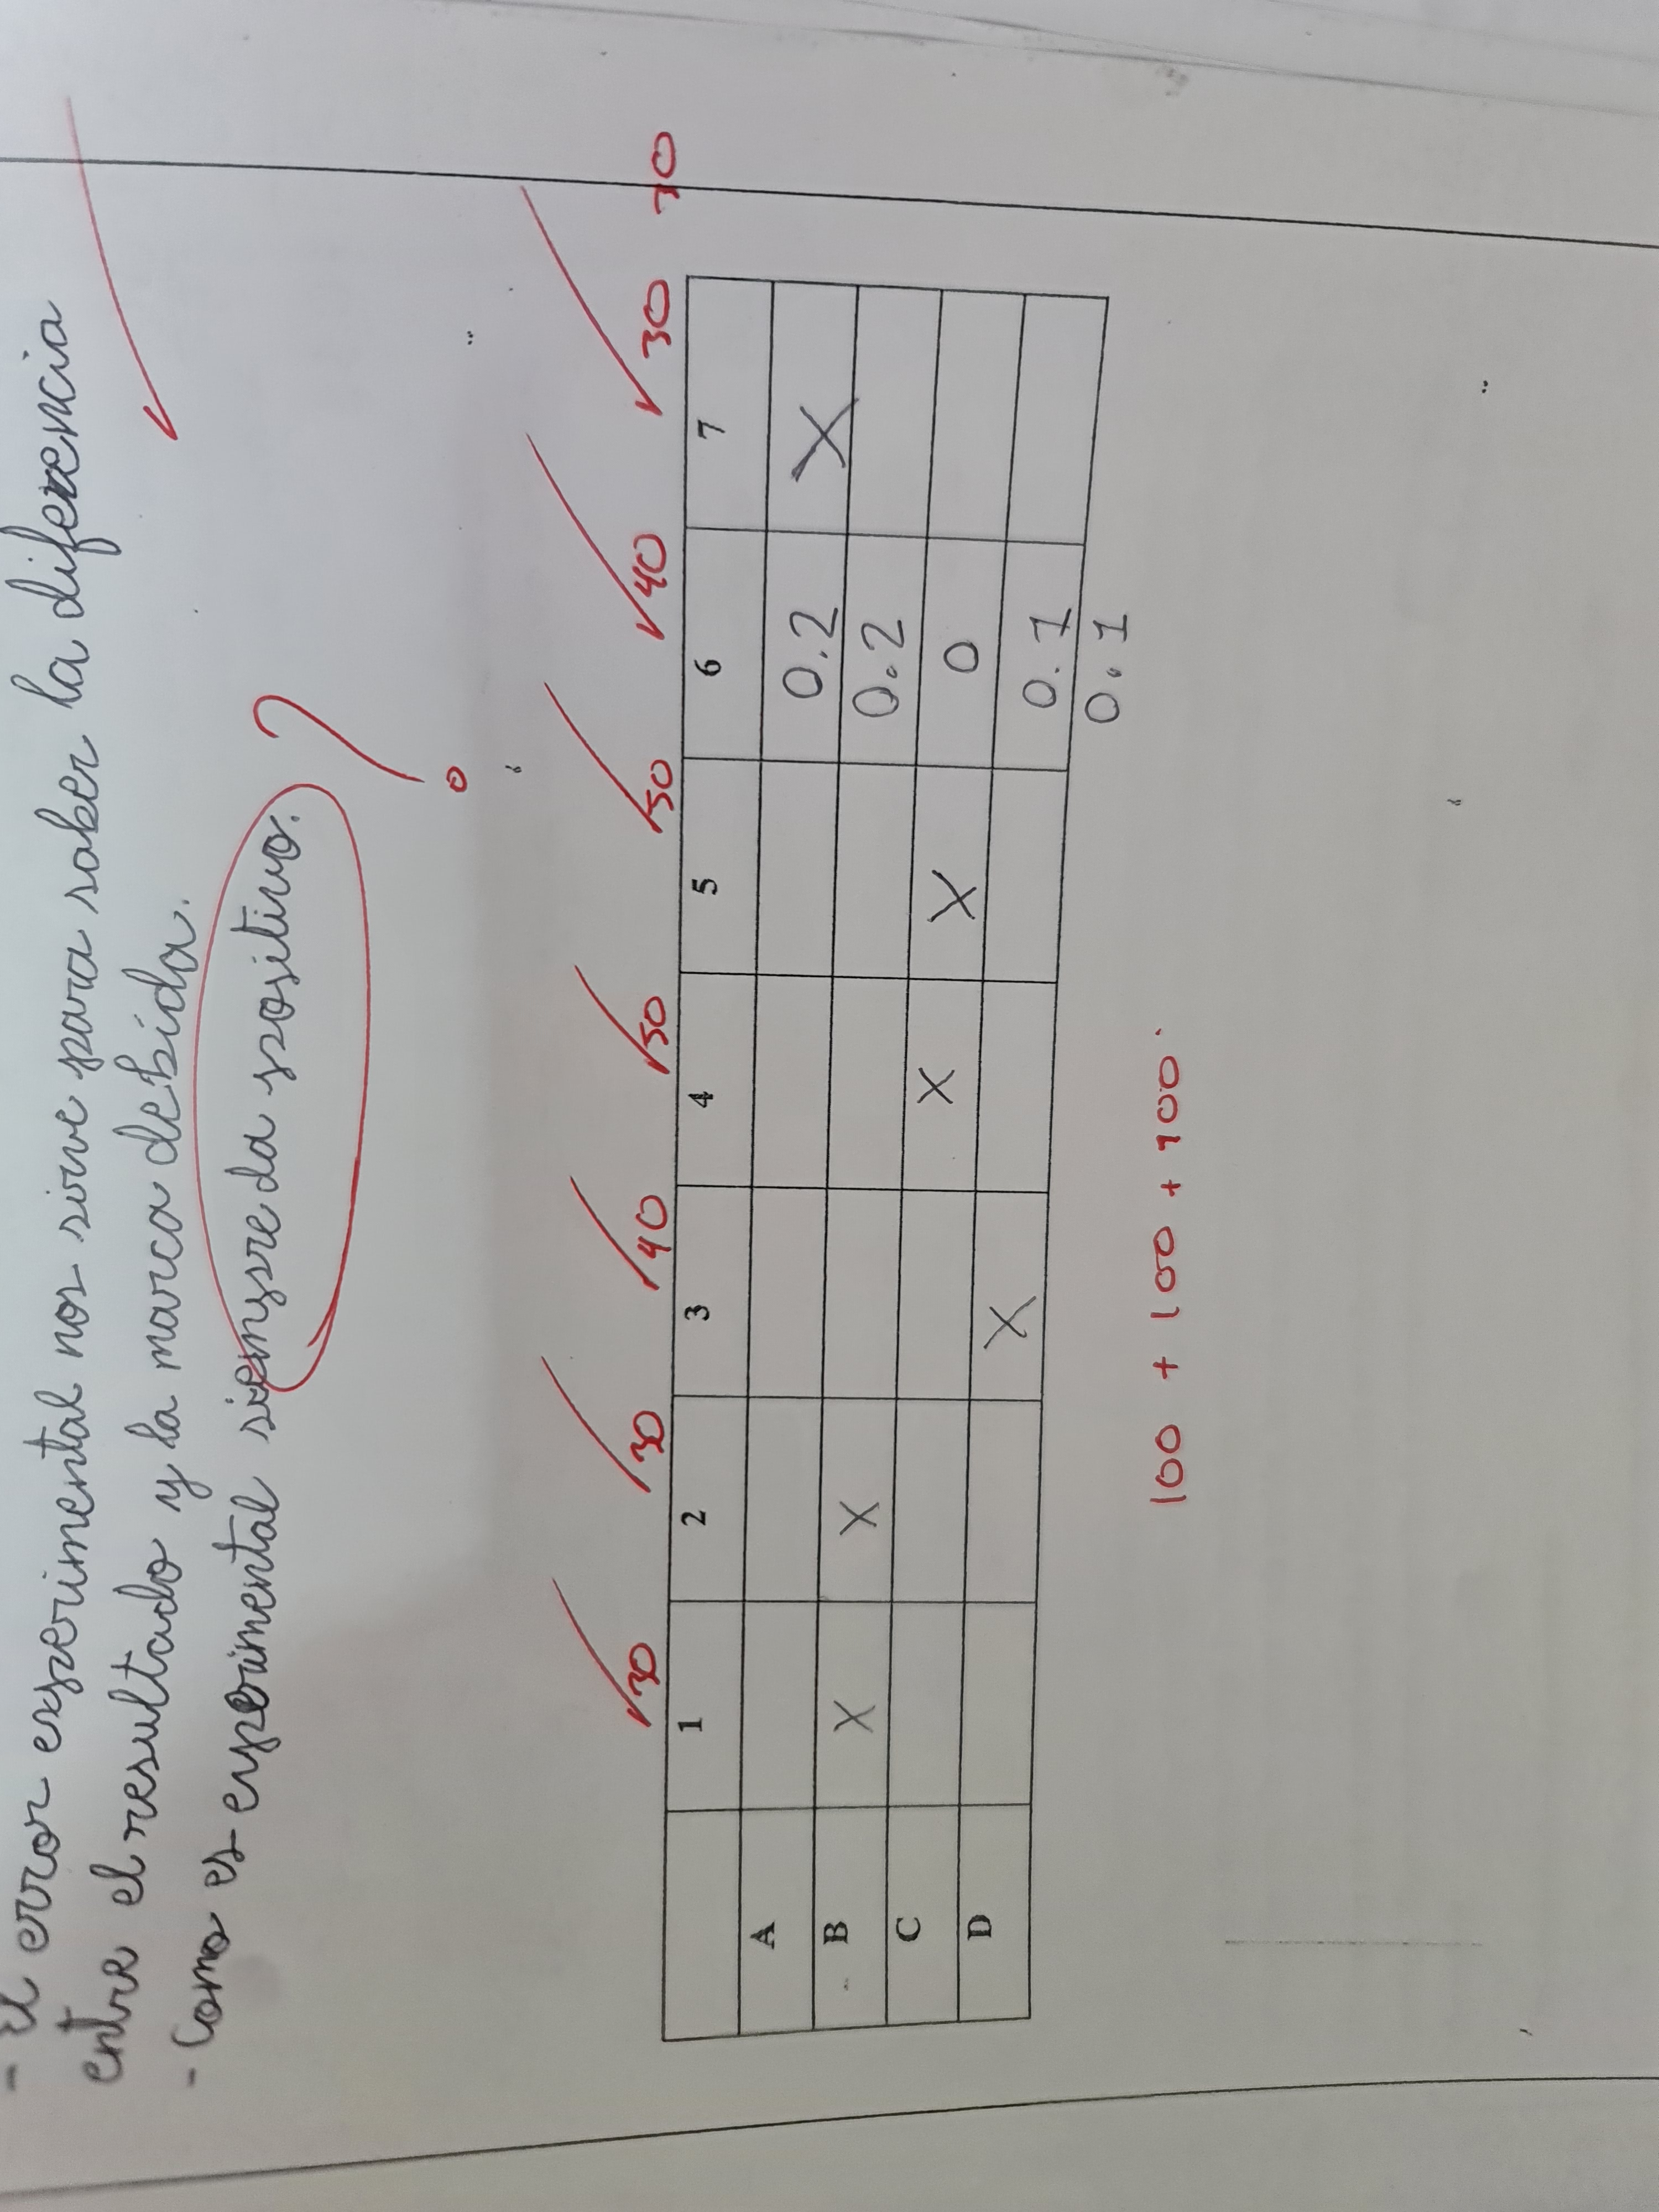column: (655, 754, 1084, 996), (647, 1787, 1040, 2048), (650, 1385, 1065, 1618), (660, 968, 1075, 1200), (659, 1170, 1061, 1407), (652, 1592, 1051, 1822)
